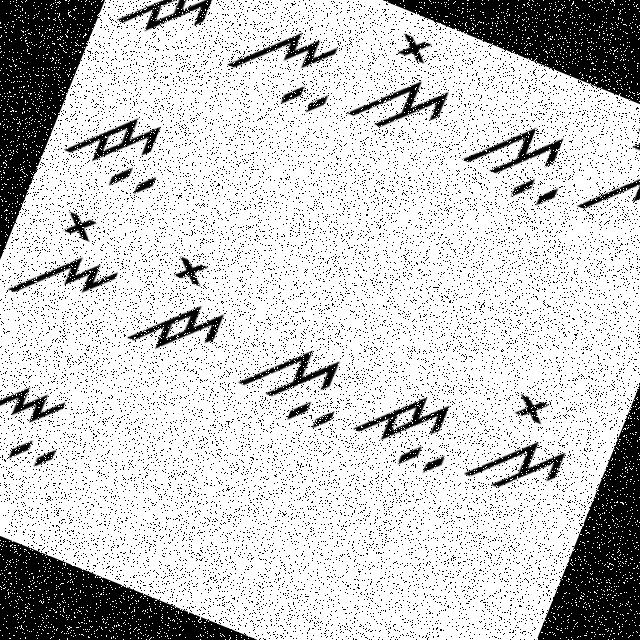jah: (49, 86, 184, 211), (340, 366, 473, 486)
jo: (118, 238, 246, 374), (102, 0, 238, 60)
nyah: (215, 0, 358, 124), (0, 343, 91, 485)
nyo: (4, 195, 139, 332), (574, 115, 639, 254)
sah: (228, 320, 358, 439), (454, 98, 581, 215)
so: (458, 372, 592, 518), (343, 17, 470, 150)
